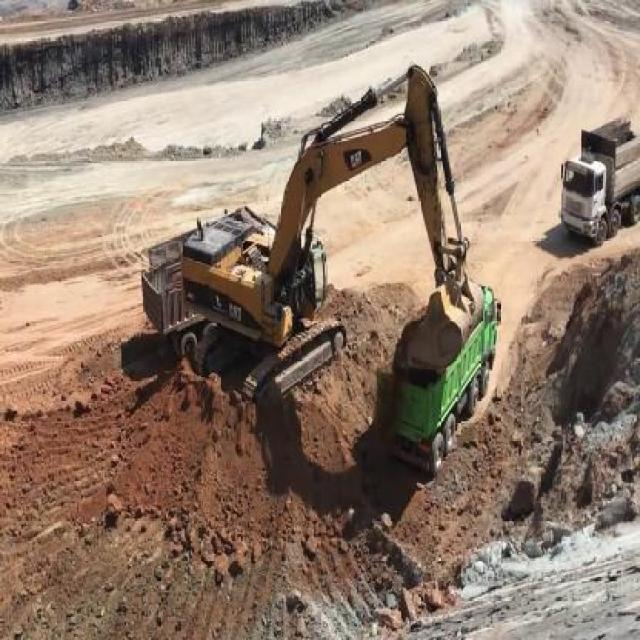dump_truck: (375, 274, 499, 478), (559, 110, 639, 247), (141, 225, 216, 357)
excavator: (177, 51, 469, 412)
